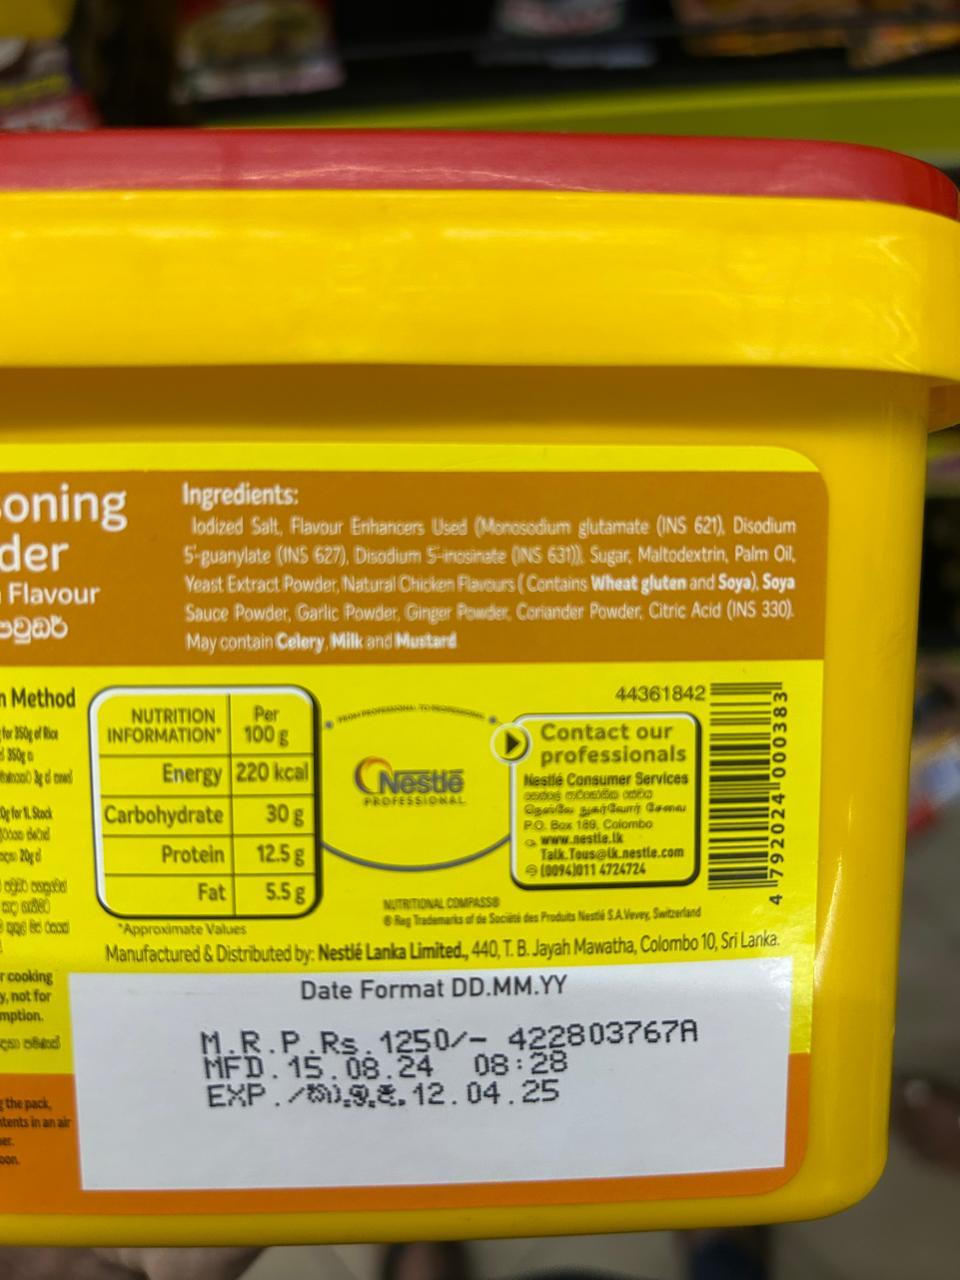ingredients: (168, 461, 831, 670)
